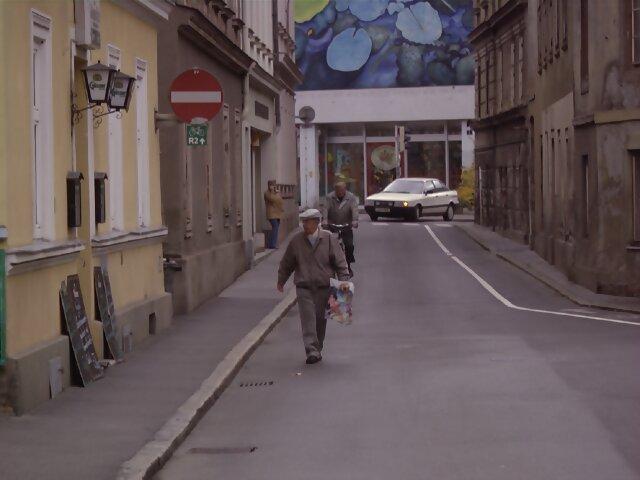person: (277, 206, 355, 372)
